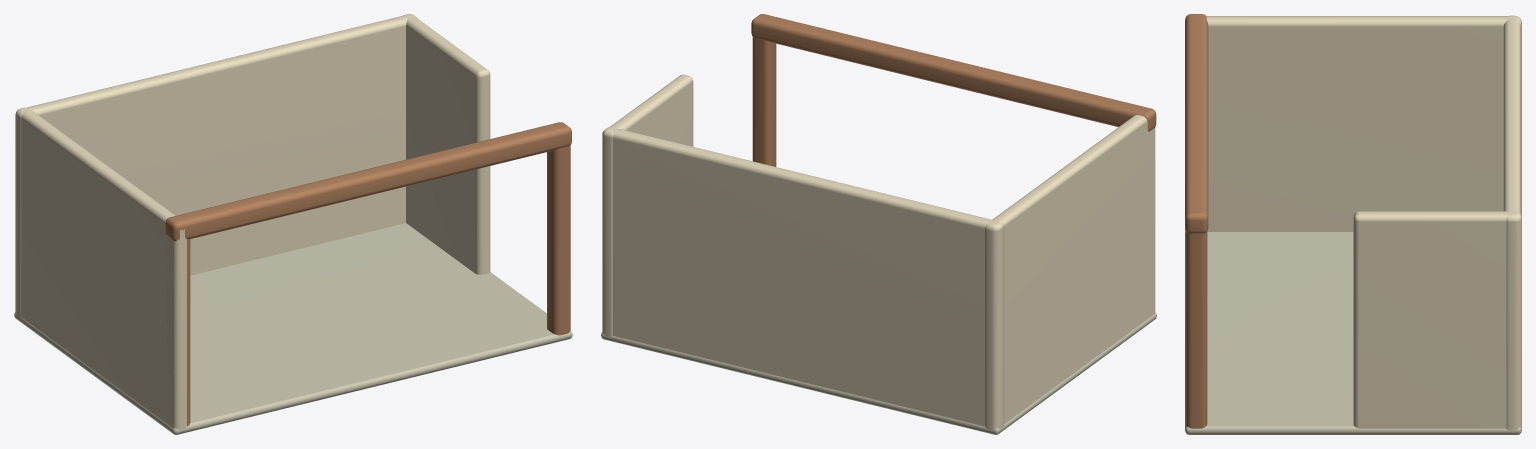
Rendered from cafe_shell.glb.
The picture shows the model from 3 angles, left to right: view 1: azimuth 30°, elevation 25°; view 2: azimuth 150°, elevation 25°; view 3: azimuth 270°, elevation 25°; orthographic projection. The views are drawn at different scales.
Parts seen in each view (by area): view 1: Body_cream, Body_stone, Body_wood; view 2: Body_cream, Body_wood, Body_stone; view 3: Body_cream, Body_stone, Body_wood.
Boxes of the visible parts, x1,y1,x2,y2 form: Body_cream: [15, 14, 490, 429]; Body_stone: [14, 223, 572, 434]; Body_wood: [165, 122, 571, 426]; Body_cream: [602, 74, 1155, 429]; Body_wood: [751, 14, 1156, 166]; Body_stone: [601, 312, 1156, 434]; Body_cream: [1185, 15, 1521, 430]; Body_stone: [1185, 232, 1521, 434]; Body_wood: [1185, 14, 1208, 428].
Bounding box in the file's own units: 5 × 2.54 × 3.5.
